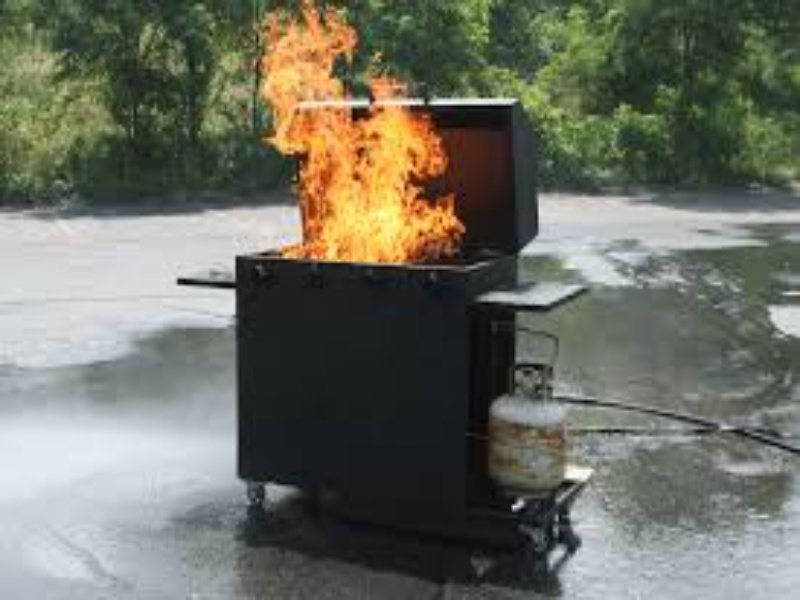fire: (259, 5, 465, 265)
